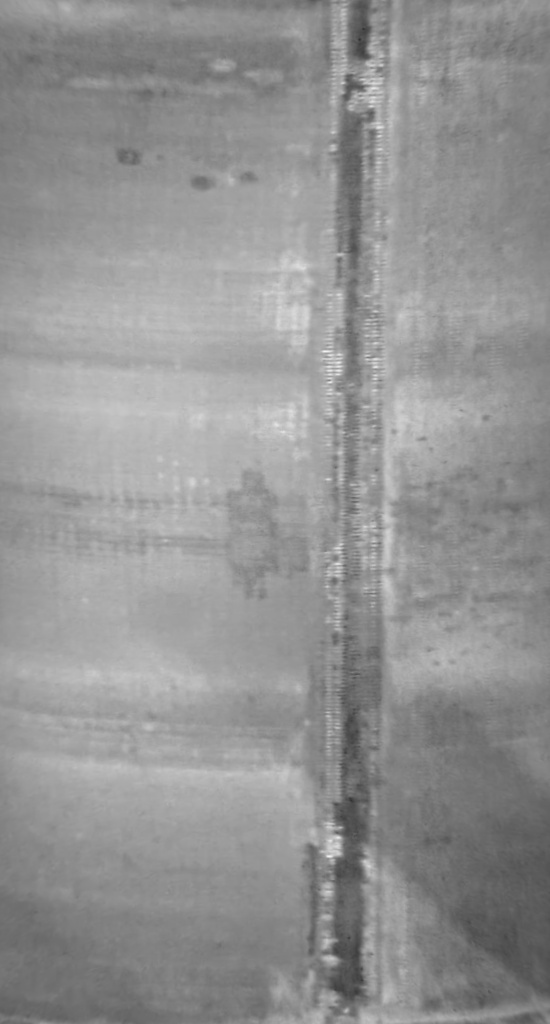splice: (298, 1, 395, 1020)
